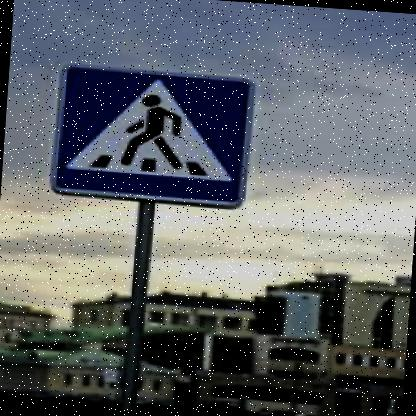crosswalk: (47, 63, 249, 208)
